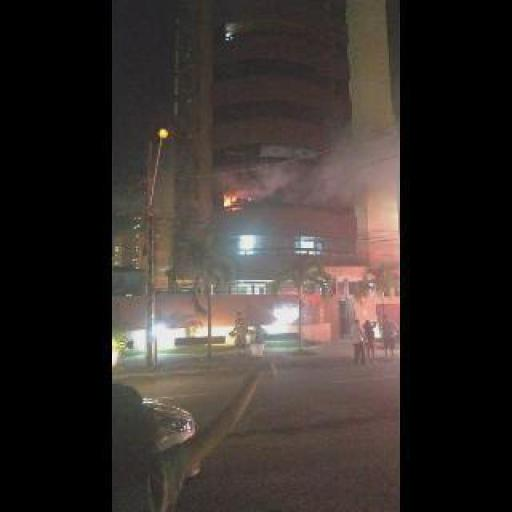smoke: (240, 131, 403, 203), (221, 196, 237, 206)
